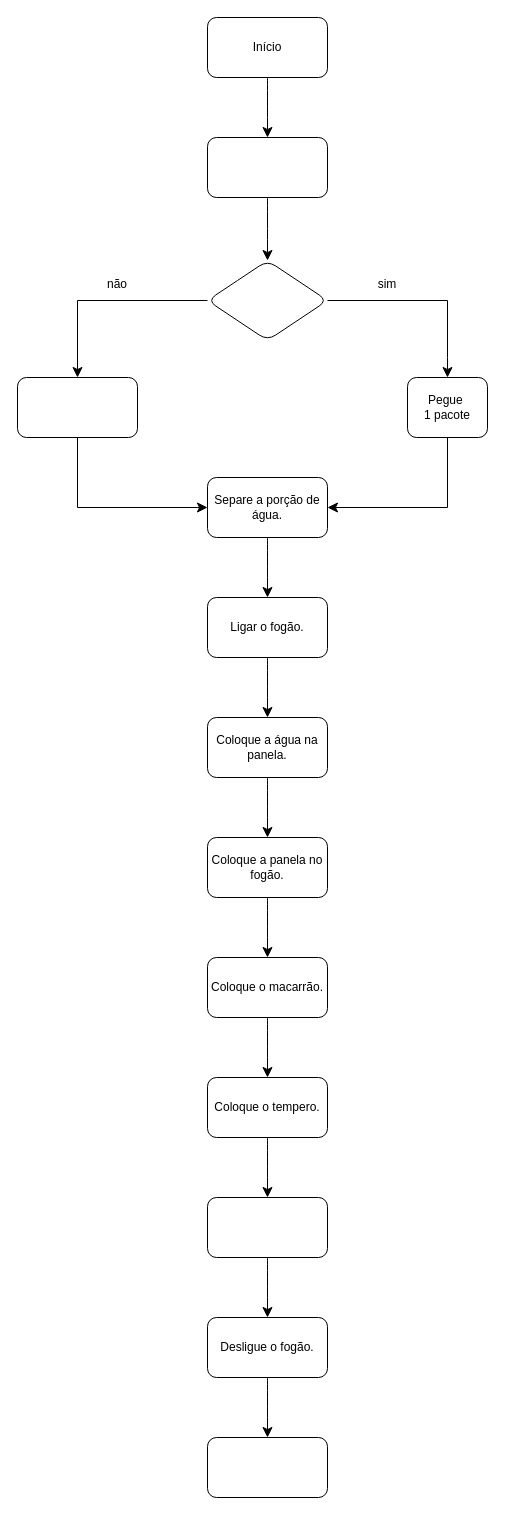
Image size: 505x1515. Some labels were removed from this diagram. Each missing label, with the centre of its shape:
"Aguarde 3 minutos após o início da água fervente." goes at point 267,1227.
"Para 1 pessoa?" goes at point 267,300.
"Pegue a quantidade de pacotes igual ao número de pessoas." goes at point 77,407.
"Pegue uma panela adequada" goes at point 267,167.
"Sirva." goes at point 267,1467.
